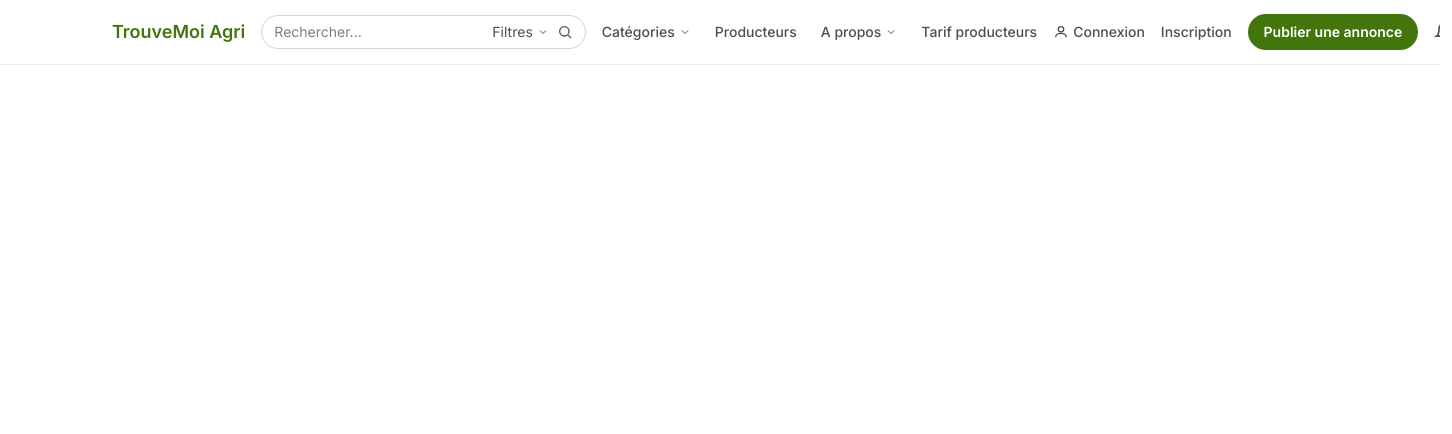
Test case: NavbarComponent › devrait ouvrir le panneau filtres au clic et afficher produit/localisation/date
menu mobile pas ouvert, donc un seul bouton "Filtres" dans le dom (le desktop)
Click the button "Filtres": {"x": 520, "y": 32} [492,22,549,42]
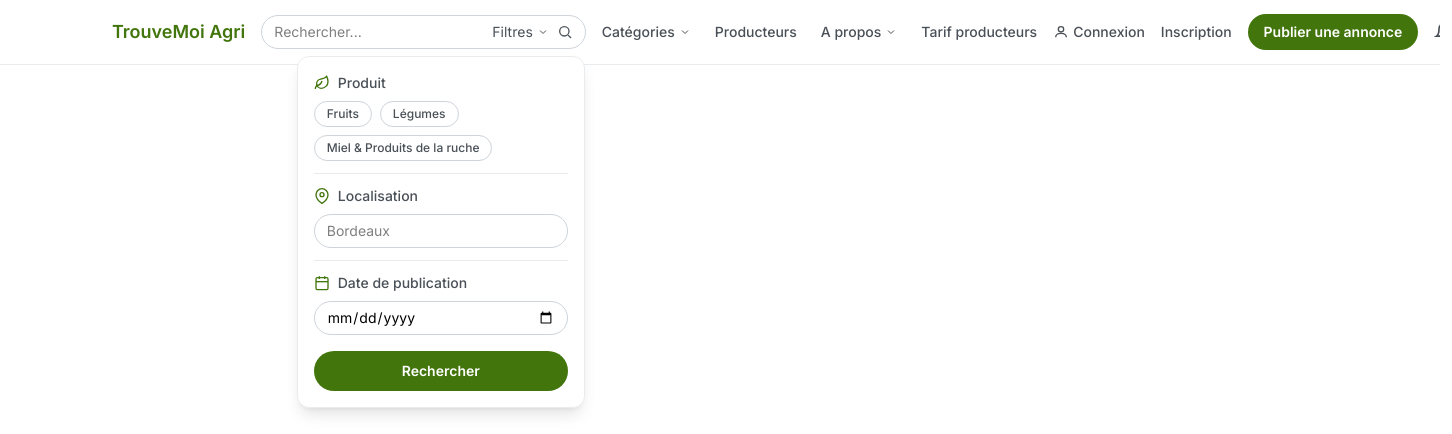
Now the text "Produit" is shown, box [314,74,386,91]
Now the text "Localisation" is shown, box [314,187,418,204]
Now the text "Date de publication" is shown, box [314,274,467,291]
